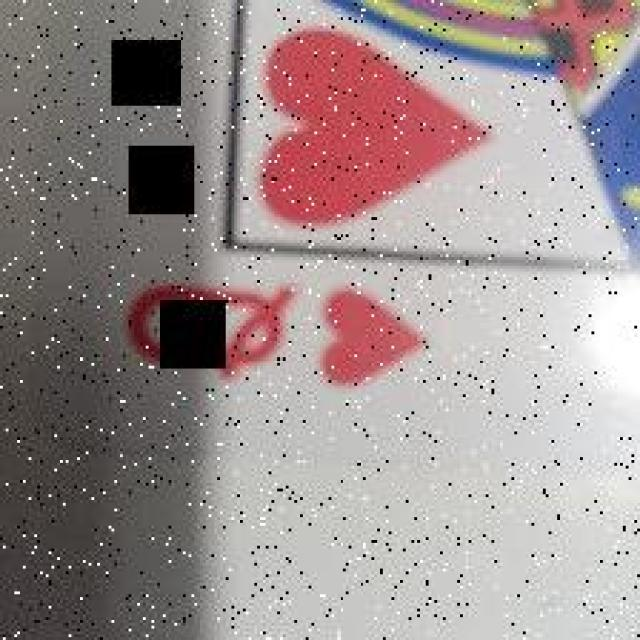Queen of hearts: (122, 0, 640, 429)
